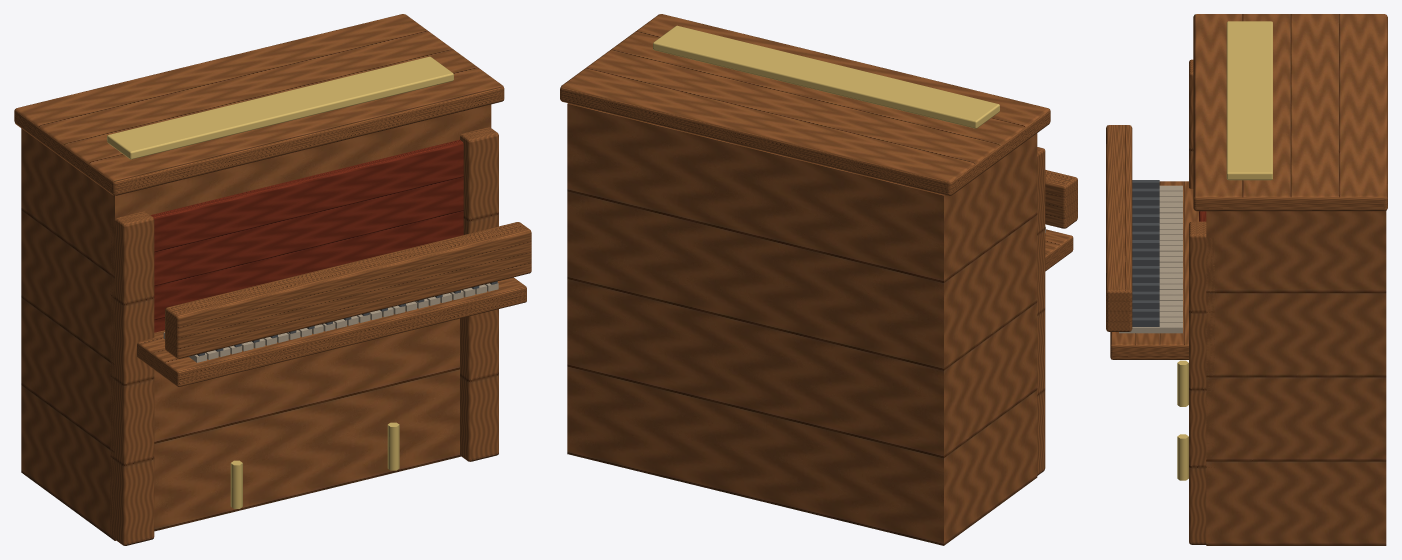
The model's file is wild-west-frontier-town-upright-piano-b071ceda__30116.glb.
The picture shows the model from 3 angles, left to right: view 1: azimuth 30°, elevation 25°; view 2: azimuth 150°, elevation 25°; view 3: azimuth 270°, elevation 25°; orthographic projection. The views are drawn at different scales.
Parts seen in each view (by area): view 1: upright-piano, lid-piano/pine, lid-piano/brass; view 2: upright-piano, lid-piano/pine, lid-piano/brass; view 3: upright-piano, lid-piano/pine, lid-piano/brass.
Part boxes in pixels (x1,y1,x2,y2): upright-piano: (21, 104, 531, 545); lid-piano/pine: (14, 14, 504, 195); lid-piano/brass: (107, 56, 453, 159); upright-piano: (567, 103, 1077, 545); lid-piano/pine: (560, 14, 1050, 195); lid-piano/brass: (653, 25, 999, 128); upright-piano: (1106, 59, 1386, 545); lid-piano/pine: (1193, 14, 1387, 211); lid-piano/brass: (1226, 21, 1272, 180).
Size of the model in its own units: 1.5 by 1.37 by 0.97.
Materials: 5 (3 with a texture image).
